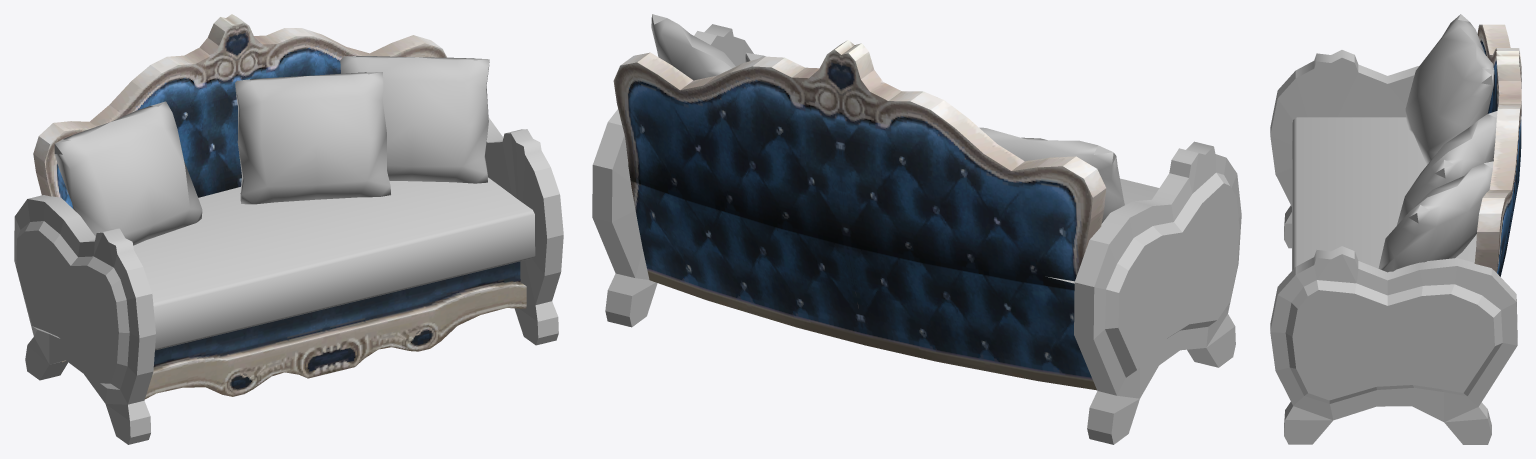
Rendered from furni_0201115_03.FBX.
3 views of the same model, side by side, from view 1: azimuth 30°, elevation 25°; view 2: azimuth 150°, elevation 25°; view 3: azimuth 270°, elevation 25° (orthographic). The views are drawn at different scales.
Visible parts, largest first — view 1: furni_0201115_03; view 2: furni_0201115_03; view 3: furni_0201115_03.
Boxes of the visible parts, x1,y1,x2,y2 form: furni_0201115_03: [14, 14, 563, 444]; furni_0201115_03: [592, 14, 1241, 444]; furni_0201115_03: [1270, 14, 1521, 444].
Bounding box in the file's own units: 158 × 99.44 × 78.57.
